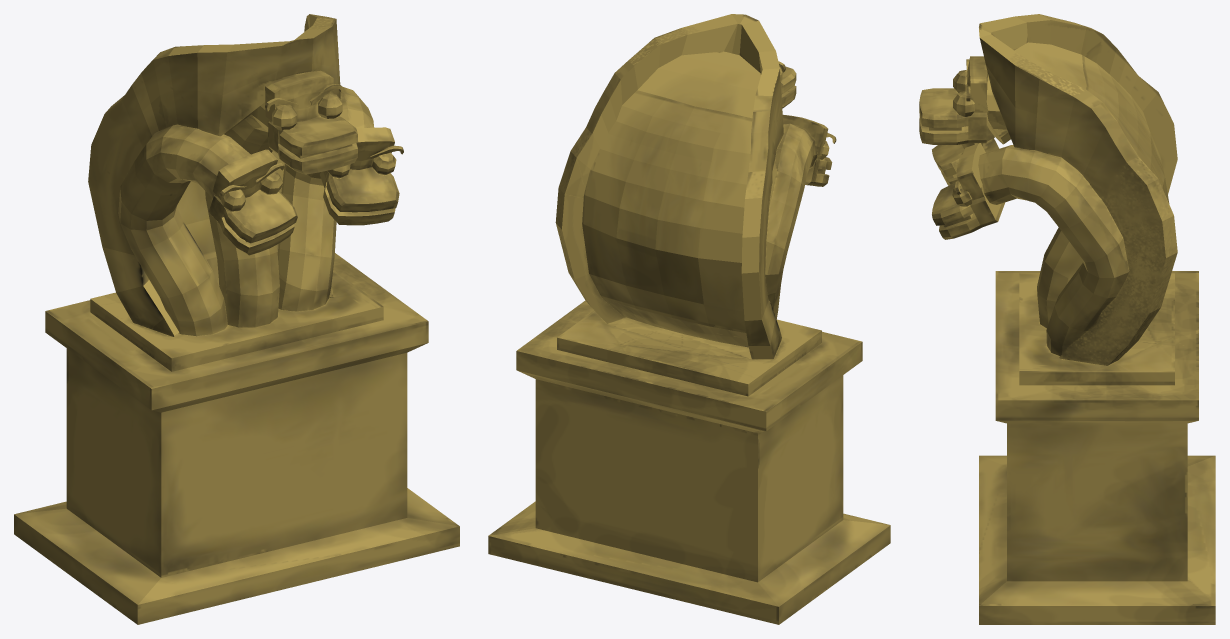
Rendered from f_NagA.fbx.
The picture shows the model from 3 angles, left to right: view 1: azimuth 30°, elevation 25°; view 2: azimuth 150°, elevation 25°; view 3: azimuth 270°, elevation 25°; orthographic projection. The views are drawn at different scales.
Visible parts, largest first — view 1: Cube.005; view 2: Cube.005; view 3: Cube.005.
Boxes of the visible parts, bbox=[...] form: Cube.005: bbox=[14, 14, 459, 624]; Cube.005: bbox=[488, 14, 890, 624]; Cube.005: bbox=[919, 14, 1215, 624].
Bounding box in the file's own units: 517 × 838 × 431.
